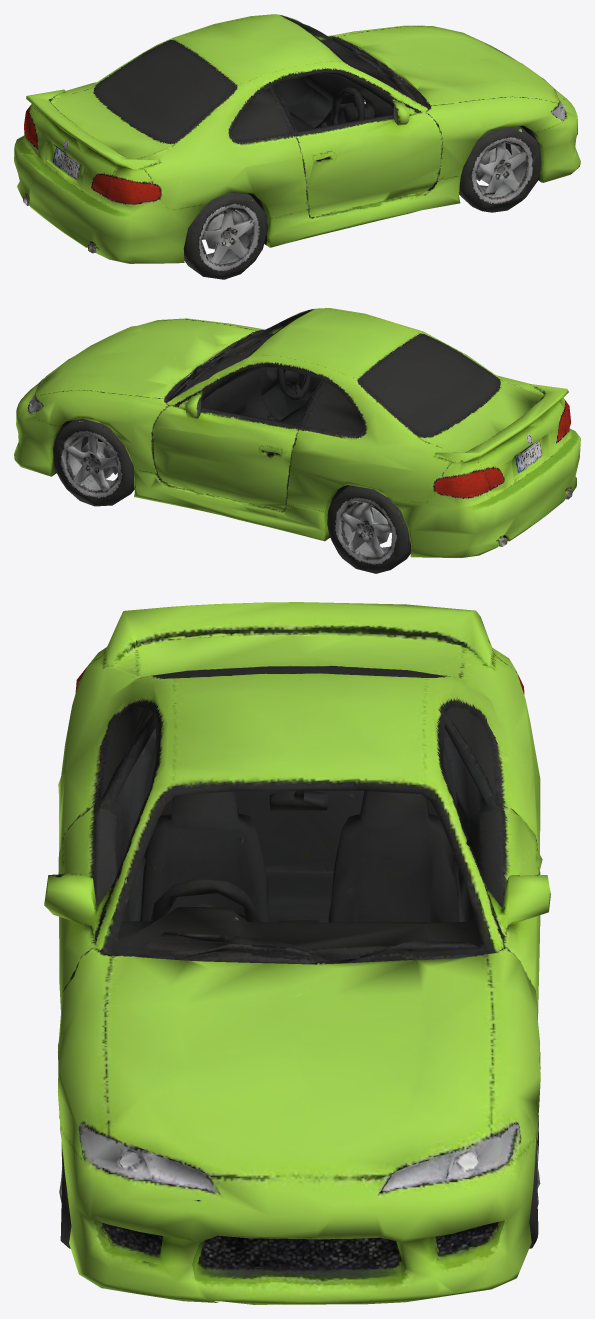
Rendered from tuner.glb.
The picture shows the model from 3 angles, top to bottom: view 1: azimuth 30°, elevation 25°; view 2: azimuth 150°, elevation 25°; view 3: azimuth 270°, elevation 25°; orthographic projection. The views are drawn at different scales.
Visible parts, largest first — view 1: geometry_0; view 2: geometry_0; view 3: geometry_0.
Part boxes in pixels (bbox=[...]): geometry_0: bbox=[14, 14, 580, 279]; geometry_0: bbox=[14, 308, 580, 573]; geometry_0: bbox=[44, 602, 550, 1304].
Bounding box in the file's own units: 1 × 0.3343 × 0.4418.
1 material, 1 textured.
